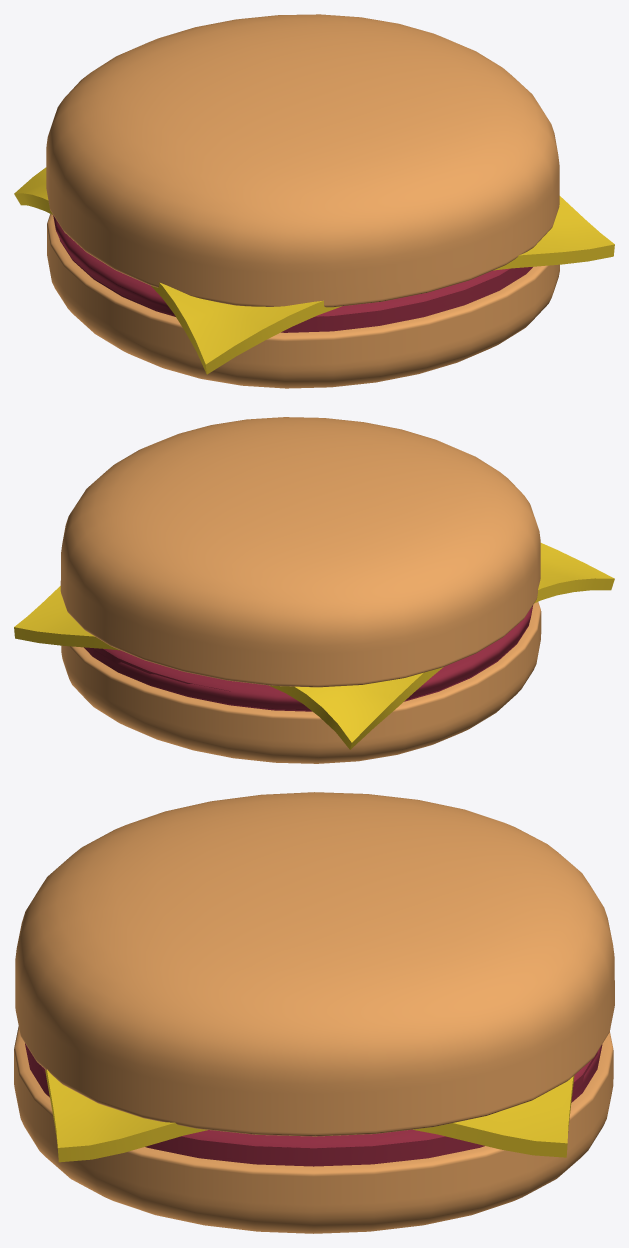
The model's file is burger.glb.
The picture shows the model from 3 angles, top to bottom: view 1: azimuth 30°, elevation 25°; view 2: azimuth 150°, elevation 25°; view 3: azimuth 270°, elevation 25°; orthographic projection. The views are drawn at different scales.
Visible parts, largest first — view 1: Cube.002, Cube, Plane, Cube.001; view 2: Cube.002, Cube, Plane, Cube.001; view 3: Cube.002, Cube, Plane, Cube.001.
Part boxes in pixels (<box>): Cube.002: <box>46,14,559,307</box>; Cube: <box>47,214,559,388</box>; Plane: <box>14,167,614,374</box>; Cube.001: <box>53,215,532,332</box>; Cube.002: <box>60,417,540,687</box>; Cube: <box>61,602,541,763</box>; Plane: <box>14,543,614,749</box>; Cube.001: <box>84,605,532,711</box>; Cube.002: <box>15,792,614,1136</box>; Cube: <box>14,1026,613,1233</box>; Plane: <box>45,1069,574,1162</box>; Cube.001: <box>25,1043,602,1166</box>.
Size of the model in its own units: 1.83 by 0.9385 by 1.84.
